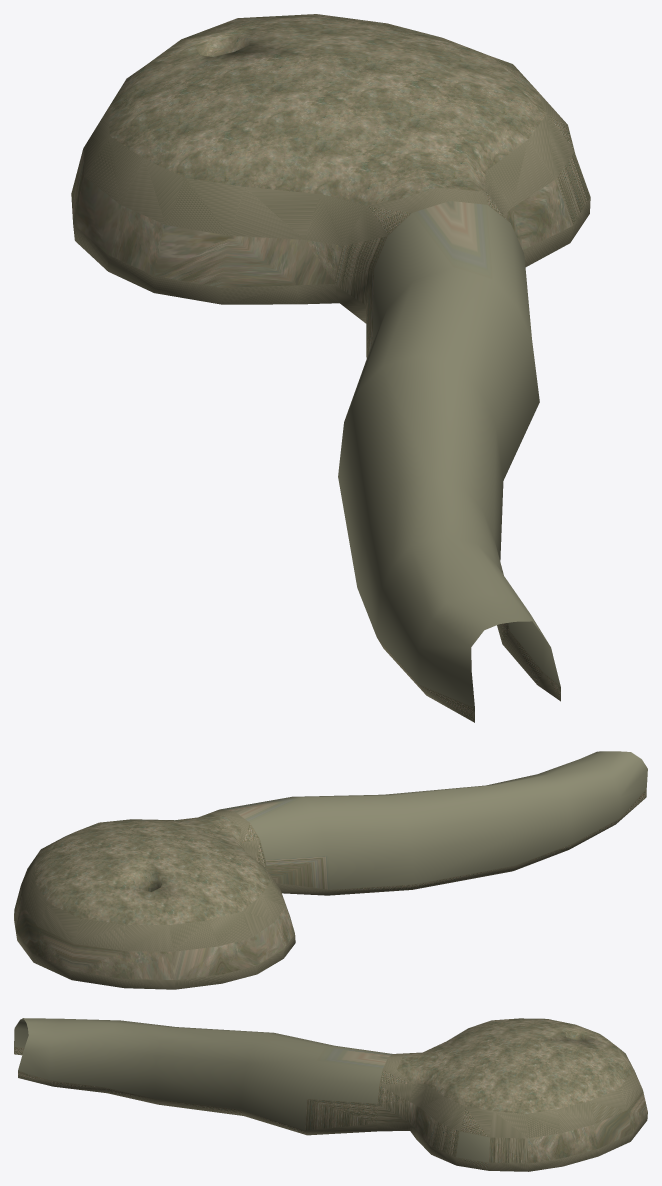
The model's file is EKH_GROTTO_PS_GR_CAVE_TOP439.fbx.
3 views of the same model, one above another, from view 1: azimuth 30°, elevation 25°; view 2: azimuth 150°, elevation 25°; view 3: azimuth 270°, elevation 25° (orthographic). The views are drawn at different scales.
Visible parts, largest first — view 1: EKH_GROTTO_PS_GR_CAVE_TOP439; view 2: EKH_GROTTO_PS_GR_CAVE_TOP439; view 3: EKH_GROTTO_PS_GR_CAVE_TOP439.
Boxes of the visible parts, x1,y1,x2,y2 form: EKH_GROTTO_PS_GR_CAVE_TOP439: (71, 14, 590, 722); EKH_GROTTO_PS_GR_CAVE_TOP439: (14, 751, 647, 989); EKH_GROTTO_PS_GR_CAVE_TOP439: (14, 1018, 647, 1171).
Size of the model in its own units: 131395 by 48625 by 245394.
Materials: 1 (1 with a texture image).
